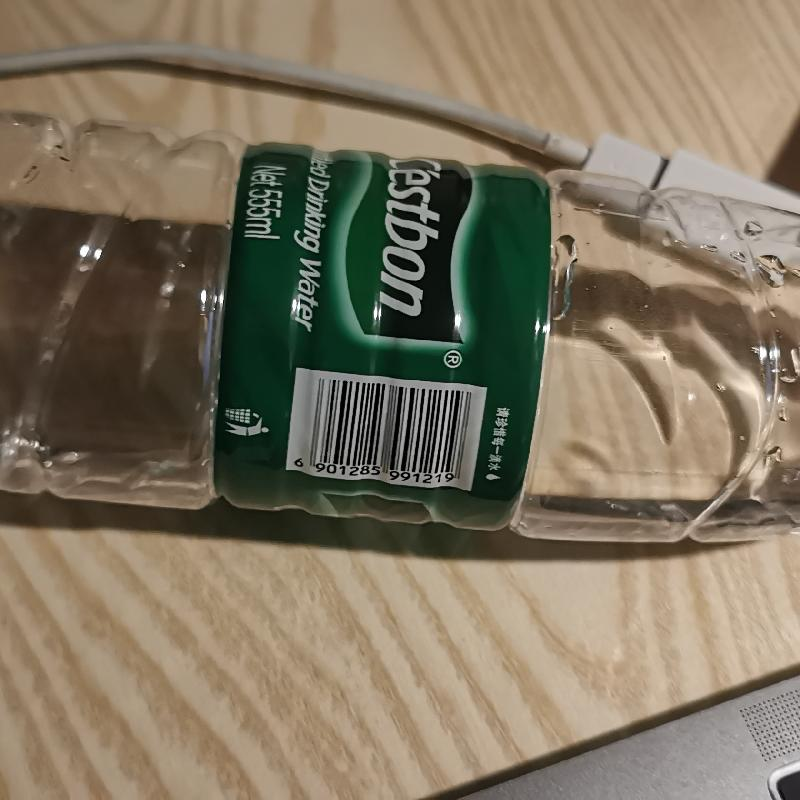bottles: (3, 96, 799, 552)
